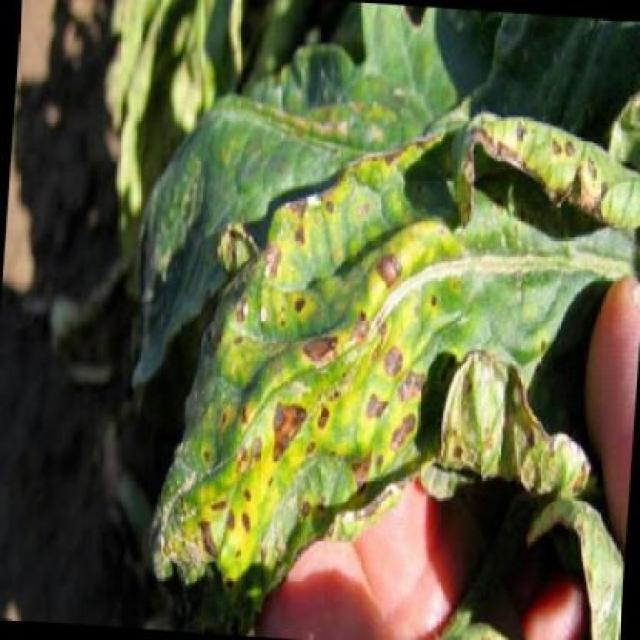Tomato leaf bacterial spot: (106, 170, 552, 604)
